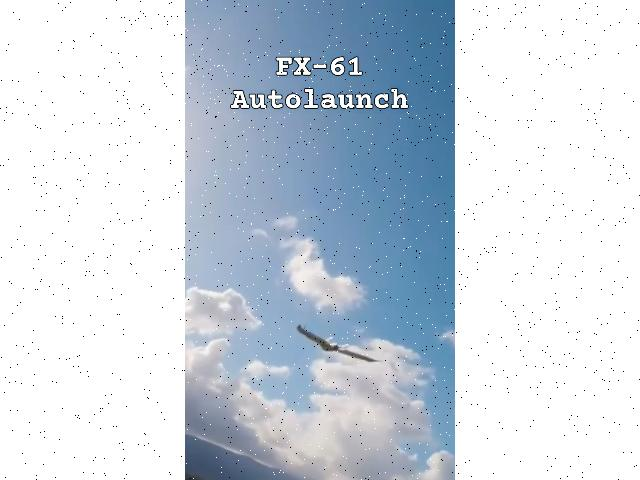Anti-Drone: (296, 325, 382, 364)
